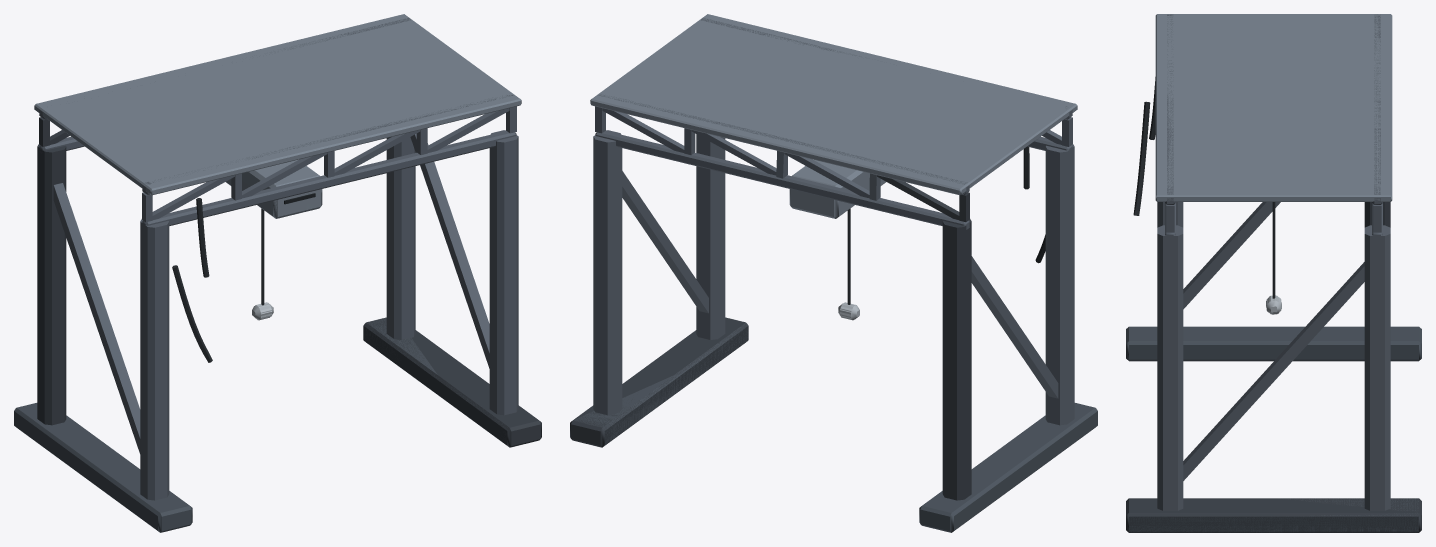
Rendered from hlx_cmp_logistics_gantry_a.glb.
3 renders of one model, left to right at view 1: azimuth 30°, elevation 25°; view 2: azimuth 150°, elevation 25°; view 3: azimuth 270°, elevation 25°, orthographic.
Parts seen in each view (by area): view 1: mesh_heavy, mesh_intact, mesh_light; view 2: mesh_heavy, mesh_intact, mesh_light; view 3: mesh_heavy, mesh_intact, mesh_light.
Boxes of the visible parts, x1,y1,x2,y2 form: mesh_heavy: [14, 14, 541, 532]; mesh_intact: [37, 14, 521, 500]; mesh_light: [45, 18, 516, 444]; mesh_heavy: [570, 16, 1097, 532]; mesh_intact: [592, 14, 1074, 425]; mesh_light: [575, 20, 1072, 445]; mesh_heavy: [1126, 14, 1421, 532]; mesh_intact: [1155, 14, 1390, 314]; mesh_light: [1129, 16, 1418, 532].
Bounding box in the file's own units: 1.21 × 1 × 0.8.
